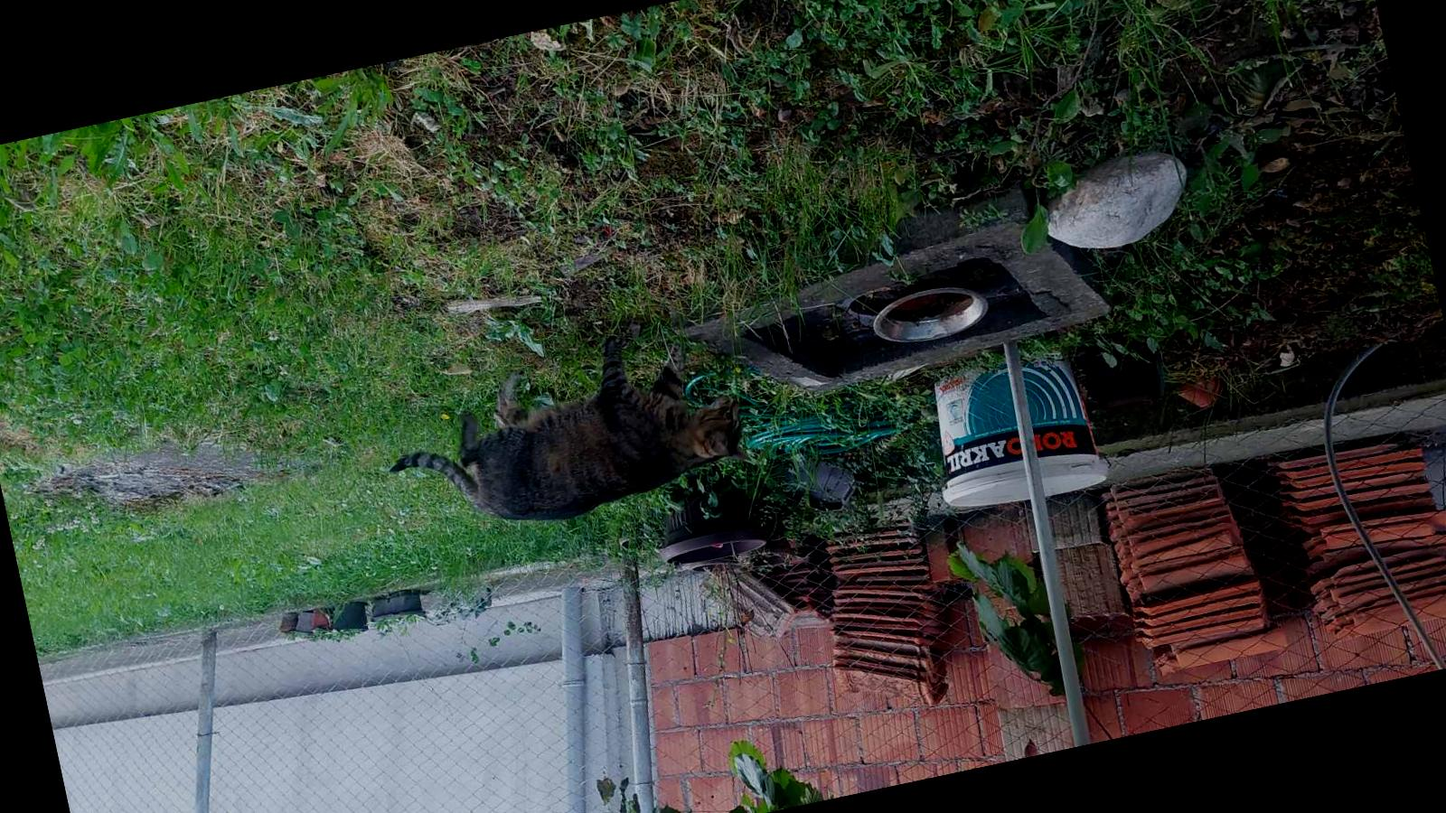macka: (374, 313, 756, 552)
